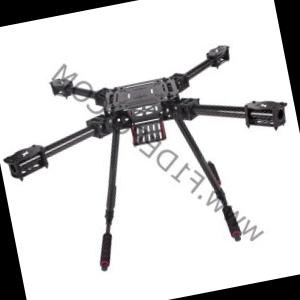drone: (0, 25, 300, 223)
